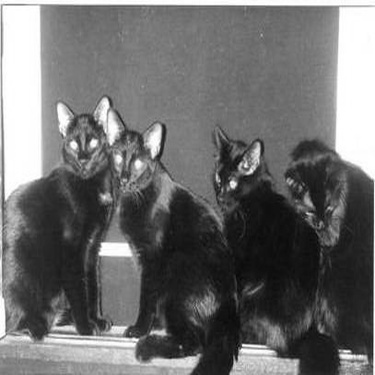cat: (91, 93, 244, 364), (194, 103, 320, 360), (6, 67, 116, 344), (286, 127, 371, 363)
